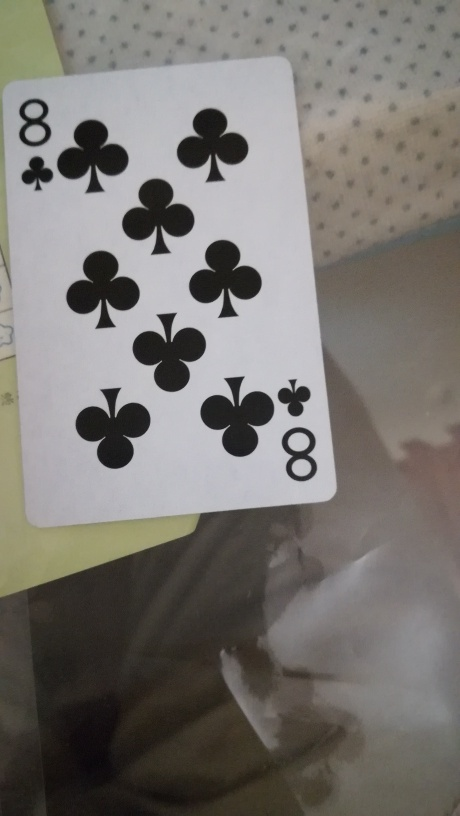mh 8: (3, 56, 341, 531)
